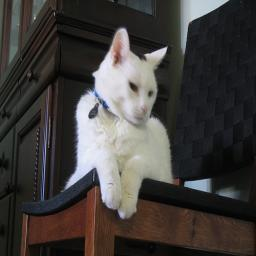catnose: (140, 102, 148, 114)
